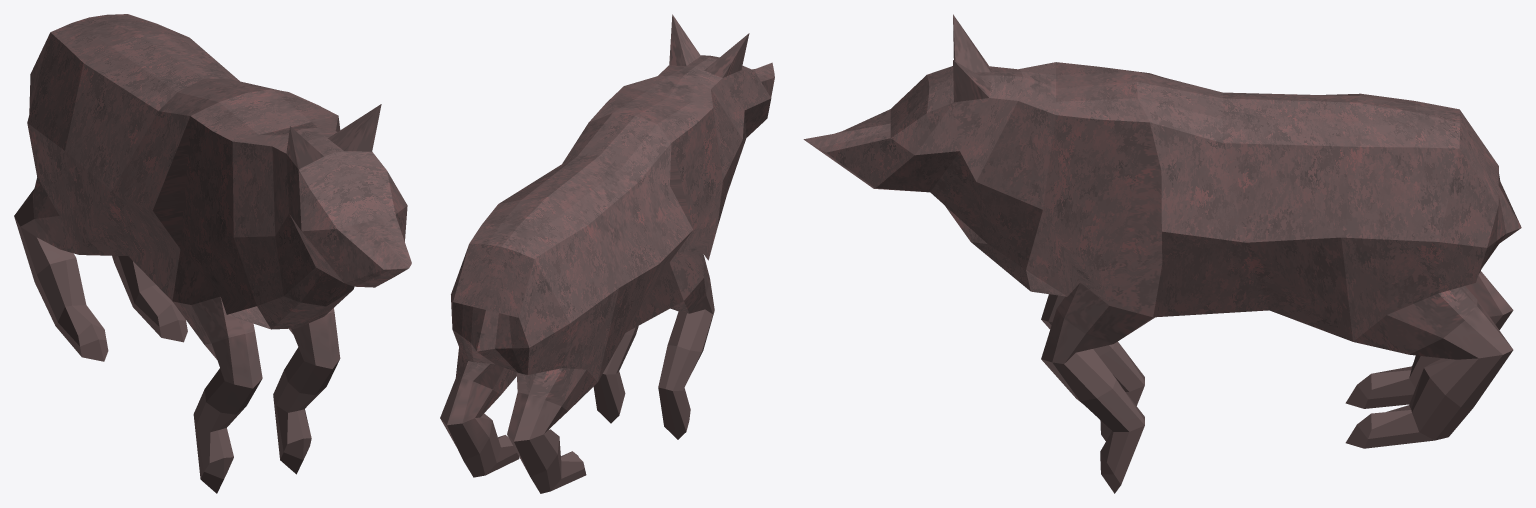
The model's file is piesblendtex_000029.obj.
The picture shows the model from 3 angles, left to right: view 1: azimuth 30°, elevation 25°; view 2: azimuth 150°, elevation 25°; view 3: azimuth 270°, elevation 25°; orthographic projection. The views are drawn at different scales.
Parts seen in each view (by area): view 1: Cube; view 2: Cube; view 3: Cube.
Boxes of the visible parts, box(x1,y1,x2,y2) form: Cube: box(14, 14, 411, 493); Cube: box(440, 14, 774, 493); Cube: box(803, 14, 1521, 493).
Bounding box in the file's own units: 2.56 × 6.44 × 9.58.
